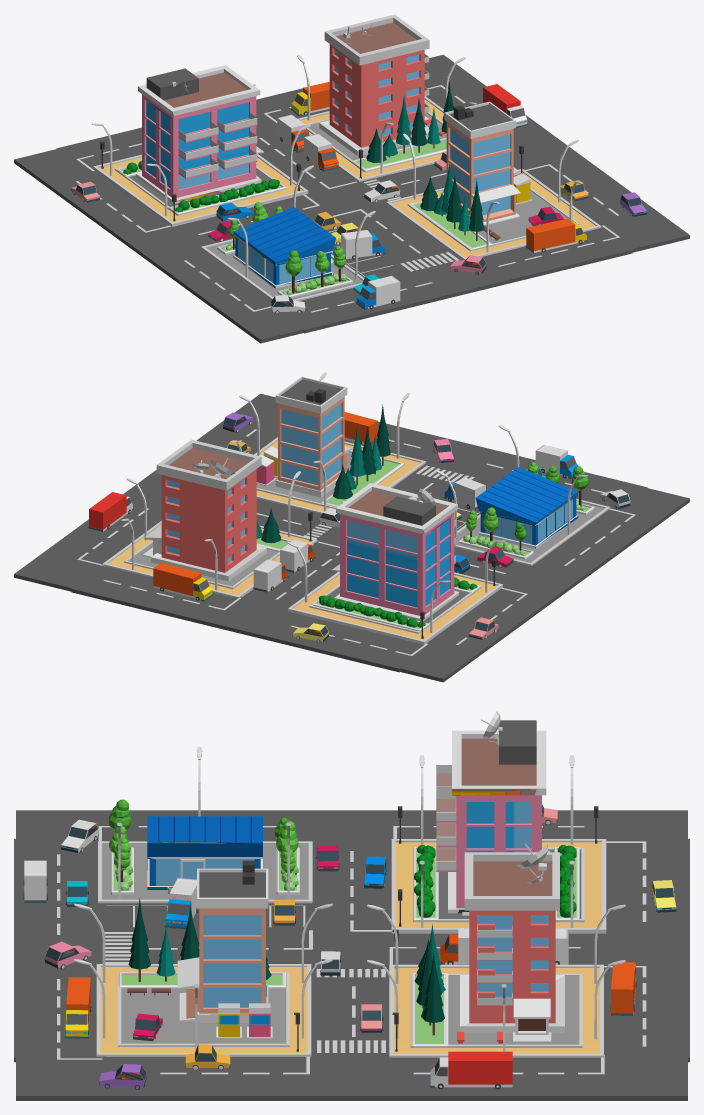
The model's file is city-v2.glb.
3 views of the same model, one above another, from view 1: azimuth 30°, elevation 25°; view 2: azimuth 150°, elevation 25°; view 3: azimuth 270°, elevation 25° (orthographic). The views are drawn at different scales.
Parts seen in each view (by area): view 1: CAR_03.1; view 2: CAR_03.1; view 3: CAR_03.1.
Part boxes in pixels (x1=…): CAR_03.1: x1=14, y1=14, x2=689, y2=343; CAR_03.1: x1=14, y1=372, x2=689, y2=682; CAR_03.1: x1=14, y1=711, x2=689, y2=1100.
Size of the model in its own units: 2192 by 609 by 2192.
Materials: 1 (1 with a texture image).
